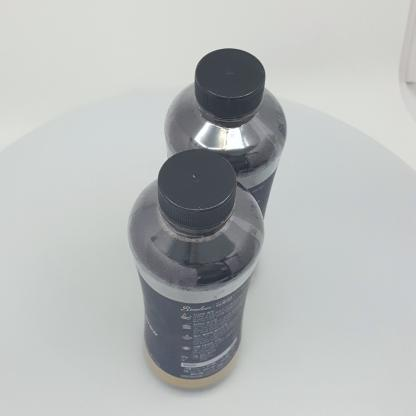-------------: (127, 149, 265, 392)
